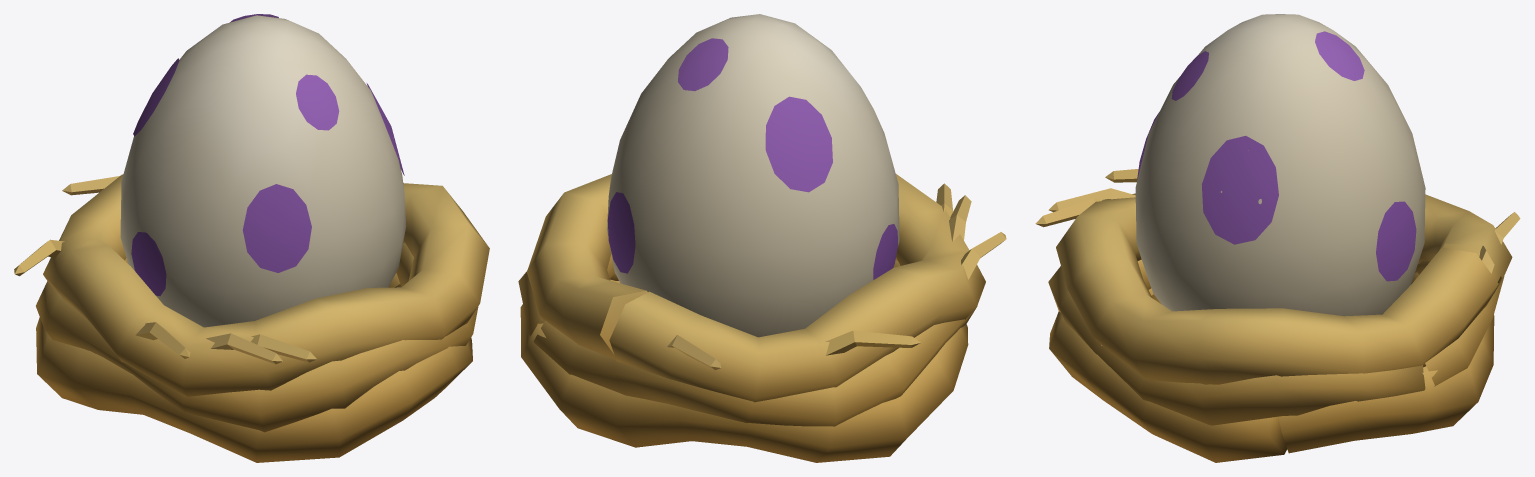
The model's file is food_egg_v3_a.fbx.
3 views of the same model, side by side, from view 1: azimuth 30°, elevation 25°; view 2: azimuth 150°, elevation 25°; view 3: azimuth 270°, elevation 25° (orthographic). The views are drawn at different scales.
Visible parts, largest first — view 1: food_egg_v3_a; view 2: food_egg_v3_a; view 3: food_egg_v3_a.
Boxes of the visible parts, x1=… form: food_egg_v3_a: x1=14, y1=14, x2=489, y2=462; food_egg_v3_a: x1=518, y1=14, x2=1006, y2=462; food_egg_v3_a: x1=1035, y1=14, x2=1520, y2=462.
Size of the model in its own units: 149 by 126 by 151.
